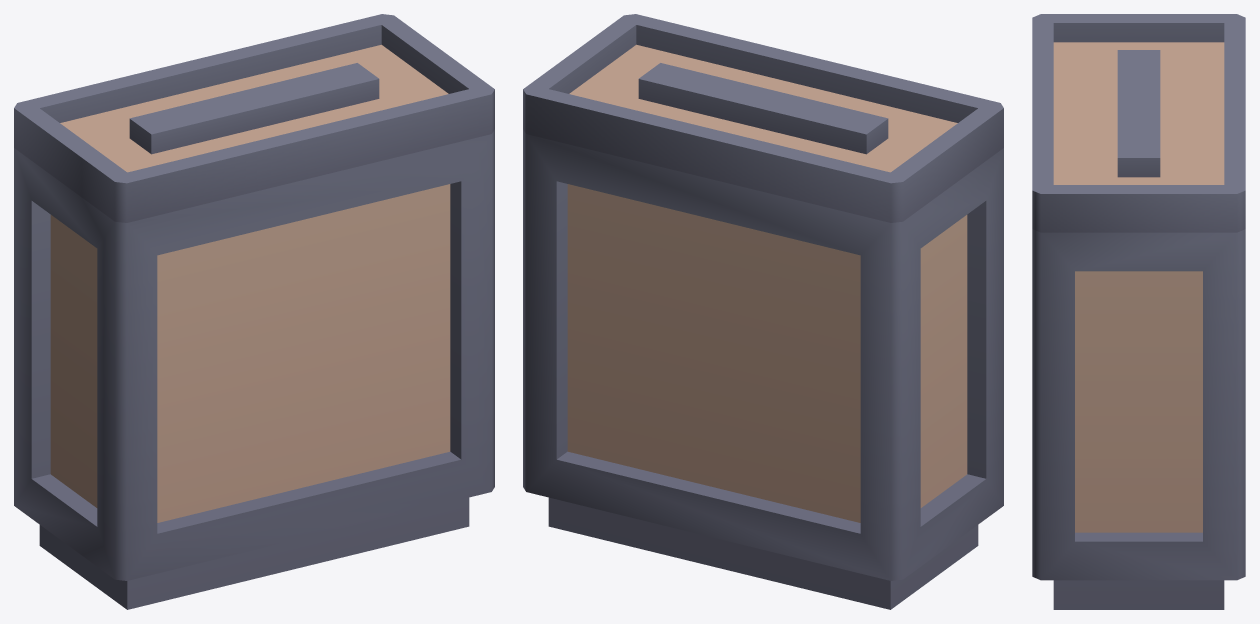
The model's file is cp-low-wide-a.glb.
3 renders of one model, left to right at view 1: azimuth 30°, elevation 25°; view 2: azimuth 150°, elevation 25°; view 3: azimuth 270°, elevation 25°, orthographic. The views are drawn at different scales.
Visible parts, largest first — view 1: low-detail-building-wide-a; view 2: low-detail-building-wide-a; view 3: low-detail-building-wide-a.
Part boxes in pixels (bbox=[...]): low-detail-building-wide-a: bbox=[14, 14, 494, 609]; low-detail-building-wide-a: bbox=[523, 14, 1003, 609]; low-detail-building-wide-a: bbox=[1032, 14, 1245, 609].
Bounding box in the file's own units: 1 × 1.1 × 0.5.
1 material, 1 textured.
